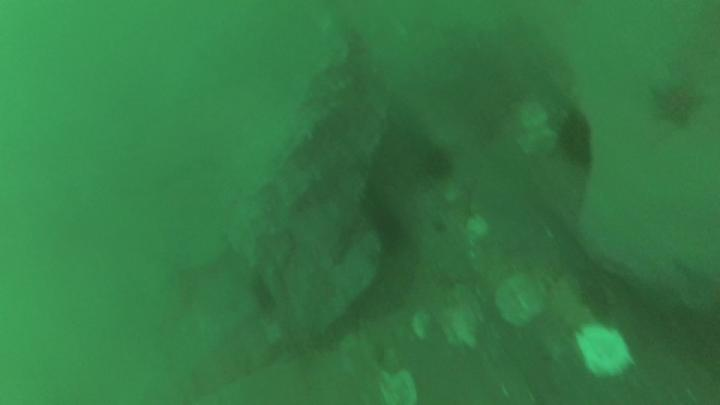echinus: (553, 109, 604, 169), (426, 145, 458, 184)
scallop: (435, 281, 487, 354), (575, 321, 635, 383), (493, 266, 547, 330)
starfish: (646, 73, 716, 135)
